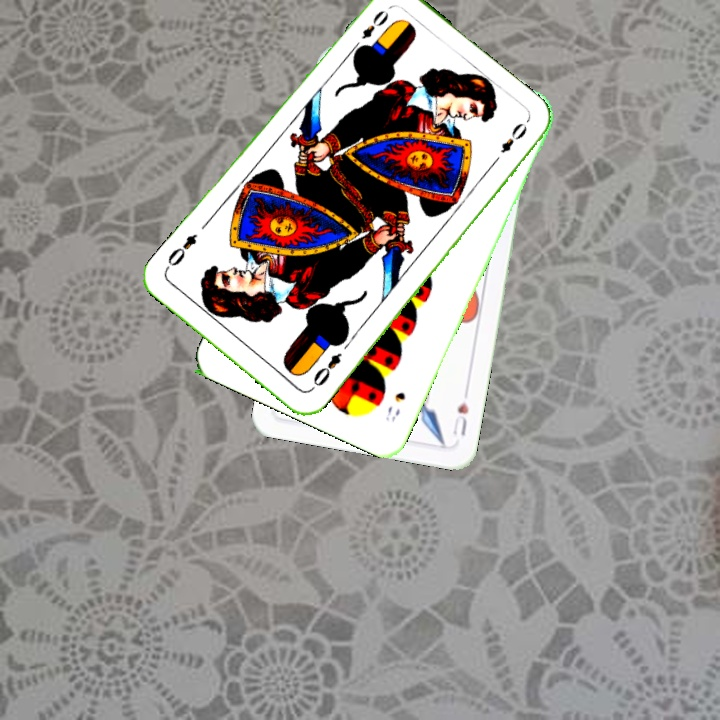EO: (306, 348, 344, 394), (357, 6, 391, 42)
HU: (448, 386, 471, 439)
S8: (381, 388, 408, 425)
